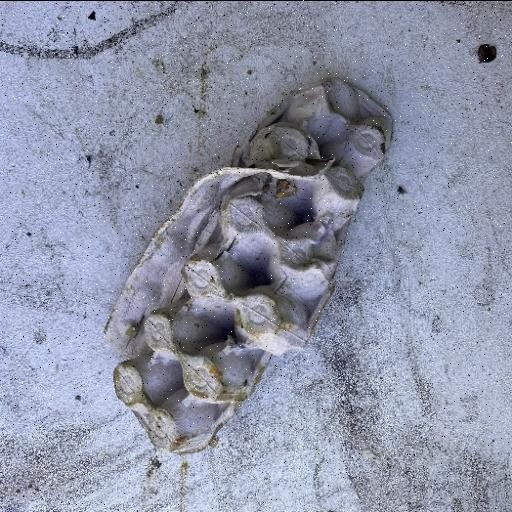Cardboard: (102, 76, 394, 456)
